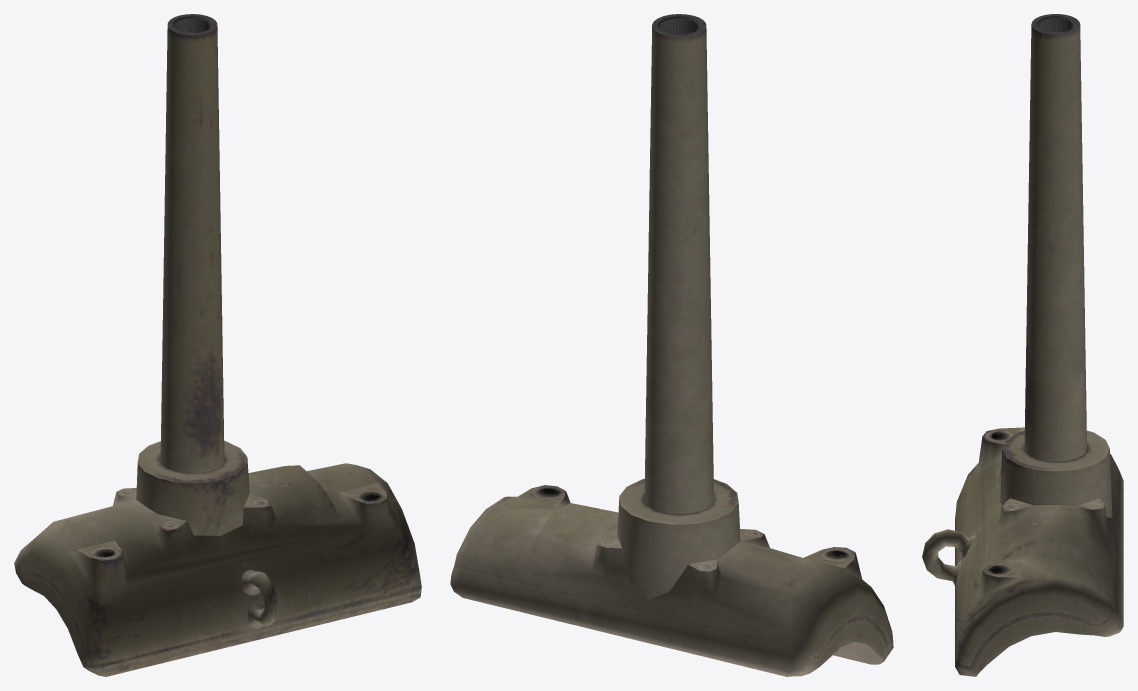
File: Gun_02.glb
3 renders of one model, left to right at view 1: azimuth 30°, elevation 25°; view 2: azimuth 150°, elevation 25°; view 3: azimuth 270°, elevation 25°, orthographic. The views are drawn at different scales.
Visible parts, largest first — view 1: set_0_group_0; view 2: set_0_group_0; view 3: set_0_group_0.
Part boxes in pixels (left/top/right/bottom): set_0_group_0: left=14, top=14, right=421, bottom=676; set_0_group_0: left=450, top=14, right=893, bottom=676; set_0_group_0: left=922, top=14, right=1123, bottom=676.
Size of the model in its own units: 1.04 by 1.75 by 0.5595.
Materials: 1 (1 with a texture image).
